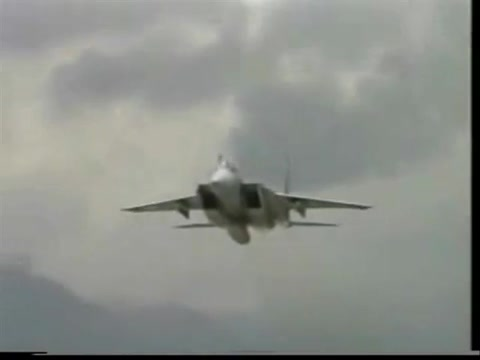aeroplane: (120, 162, 373, 247)
